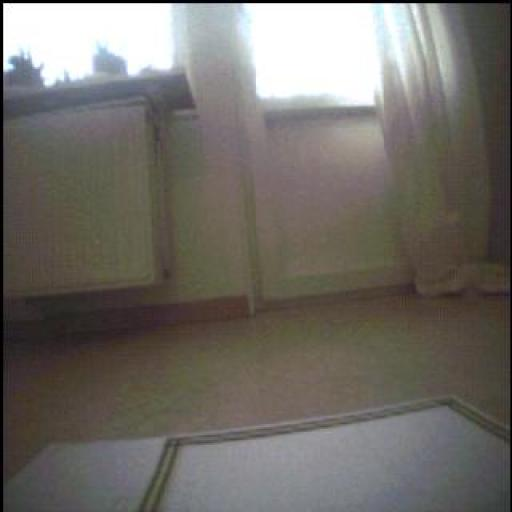Pad: (1, 393, 455, 505)
